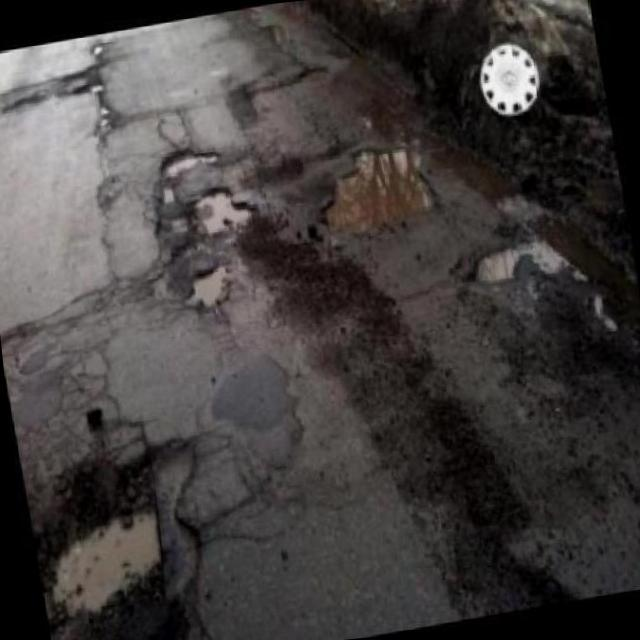Pothole: (32, 408, 189, 640), (318, 147, 444, 240), (467, 241, 570, 283), (195, 189, 251, 236), (184, 265, 229, 309), (160, 148, 218, 181), (160, 189, 173, 203), (173, 220, 184, 230)
